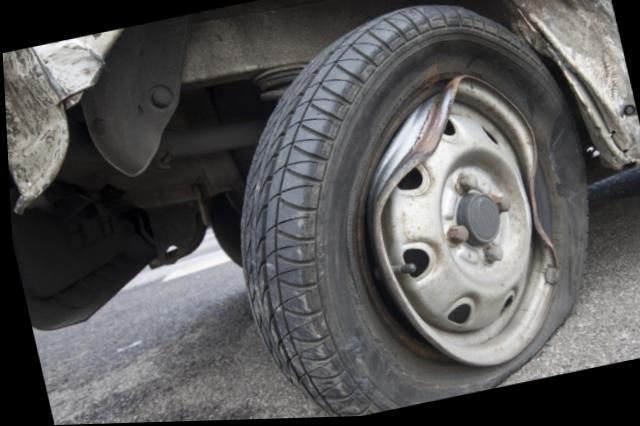dent: (520, 0, 640, 163)
tire flat: (238, 6, 590, 419)
